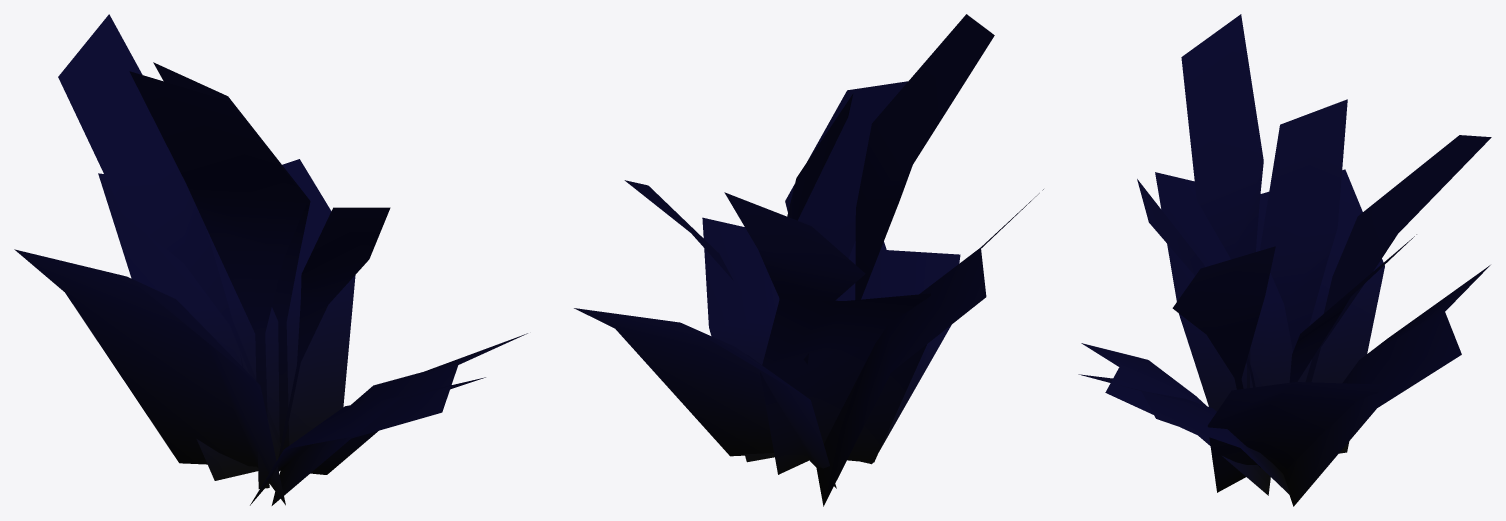
File: SM_Foliage_ReedB_05.fbx
3 renders of one model, left to right at view 1: azimuth 30°, elevation 25°; view 2: azimuth 150°, elevation 25°; view 3: azimuth 270°, elevation 25°, orthographic. The views are drawn at different scales.
Visible parts, largest first — view 1: SM_Foliage_ReedB_05; view 2: SM_Foliage_ReedB_05; view 3: SM_Foliage_ReedB_05.
Boxes of the visible parts, x1=… form: SM_Foliage_ReedB_05: x1=14, y1=14, x2=527, y2=505; SM_Foliage_ReedB_05: x1=574, y1=14, x2=1043, y2=506; SM_Foliage_ReedB_05: x1=1078, y1=14, x2=1491, y2=506.
Size of the model in its own units: 129 by 121 by 127.
